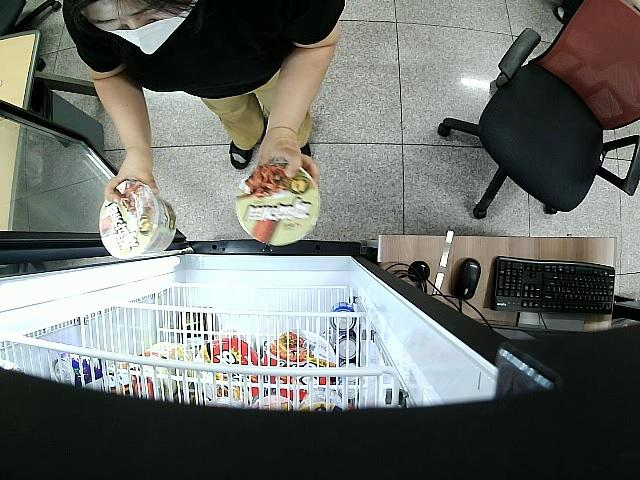00_hand: (258, 137, 321, 183), (105, 155, 159, 203)
03_chapagetti_L: (235, 161, 320, 247), (99, 180, 177, 260)
